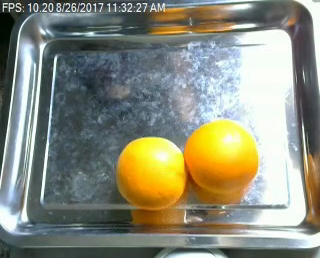Orange: (183, 119, 258, 194), (115, 136, 188, 210)
